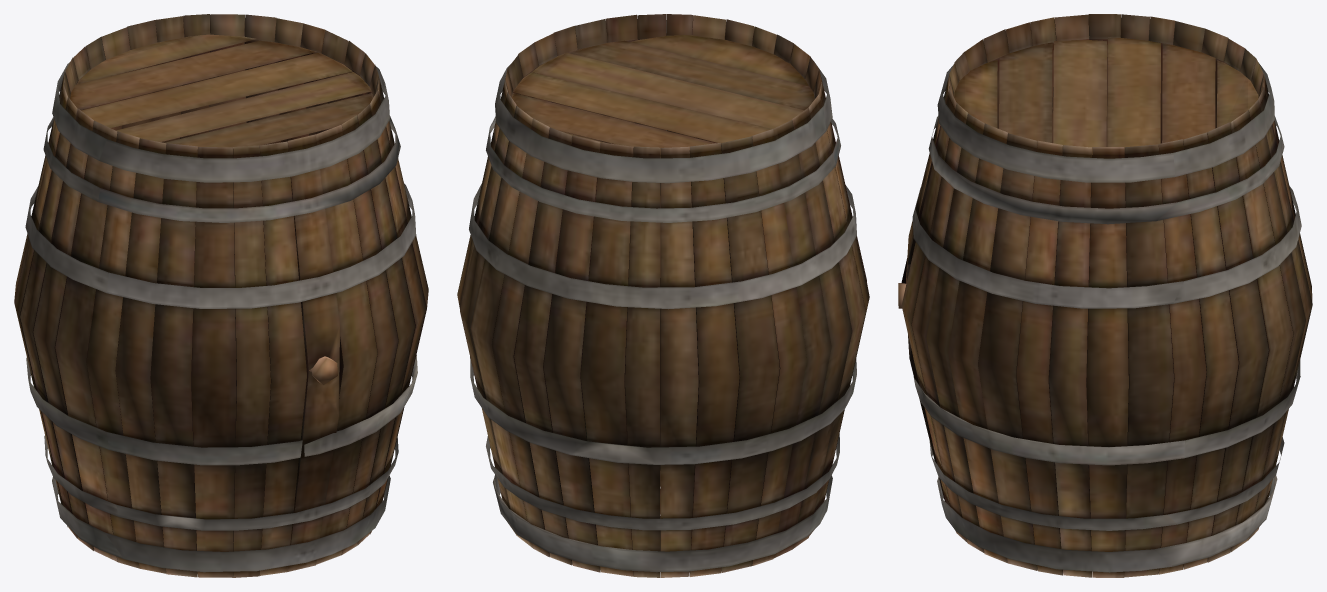
File: prop_barrel_01.glb
The picture shows the model from 3 angles, left to right: view 1: azimuth 30°, elevation 25°; view 2: azimuth 150°, elevation 25°; view 3: azimuth 270°, elevation 25°; orthographic projection.
Parts seen in each view (by area): view 1: prop_barrel_01; view 2: prop_barrel_01; view 3: prop_barrel_01.
Boxes of the visible parts, bbox=[...] form: prop_barrel_01: bbox=[14, 14, 428, 577]; prop_barrel_01: bbox=[457, 14, 869, 577]; prop_barrel_01: bbox=[898, 14, 1312, 577].
Bounding box in the file's own units: 0.7609 × 0.8773 × 0.765.
Materials: 1 (1 with a texture image).
